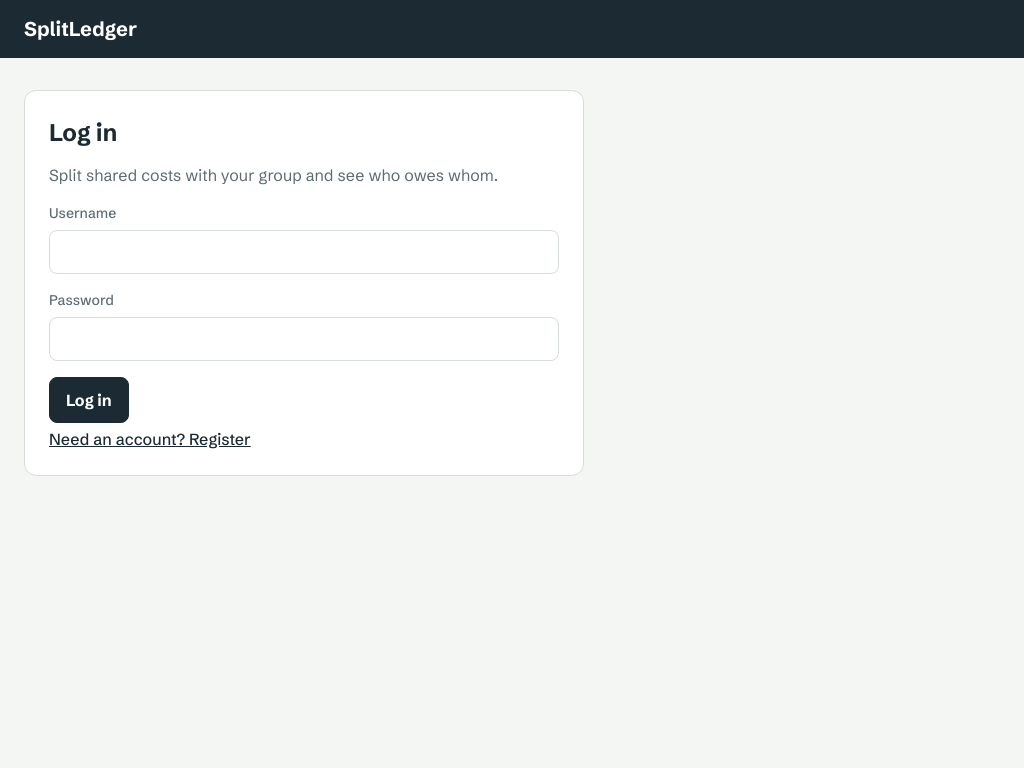
Test: LoginPage › registers then logs in
Click the button "Need an account? Register". click: [150, 439]
box: [49,427,251,451]
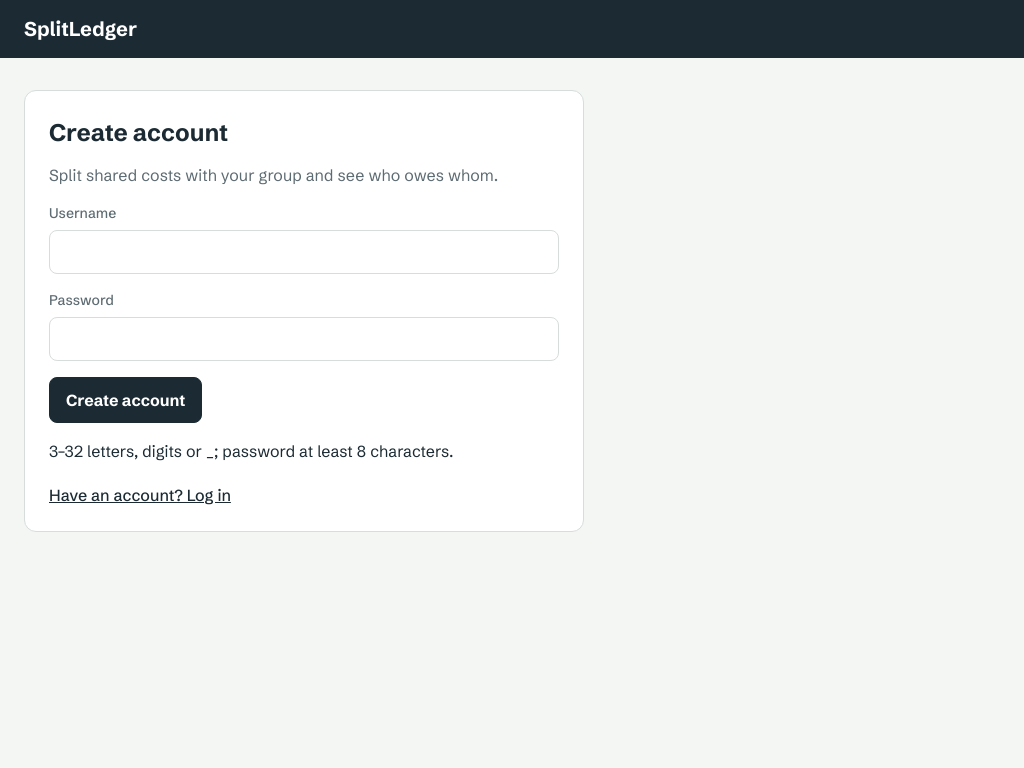
Check: the heading "Create account" is shown, box [49,118,228,147]
Type "alice" into the field labelled "Username". click: [304, 252]
box: [49,230,559,274]
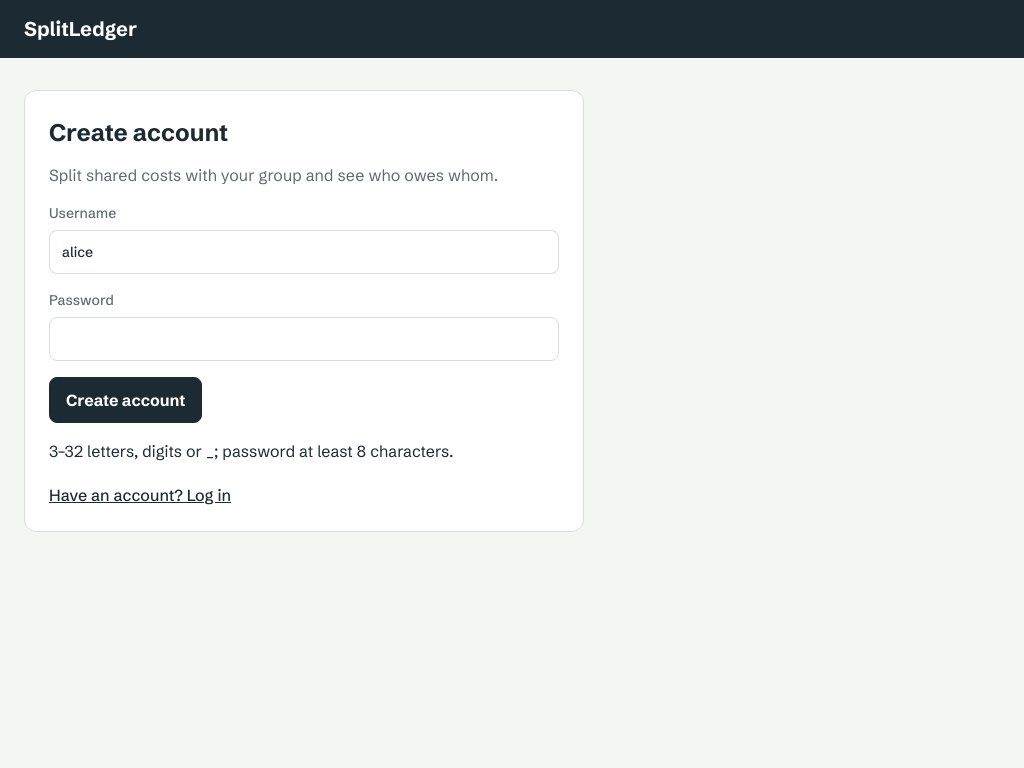
Type "pw123456" into the password field labelled "Password". click: [304, 339]
box: [49,317,559,361]
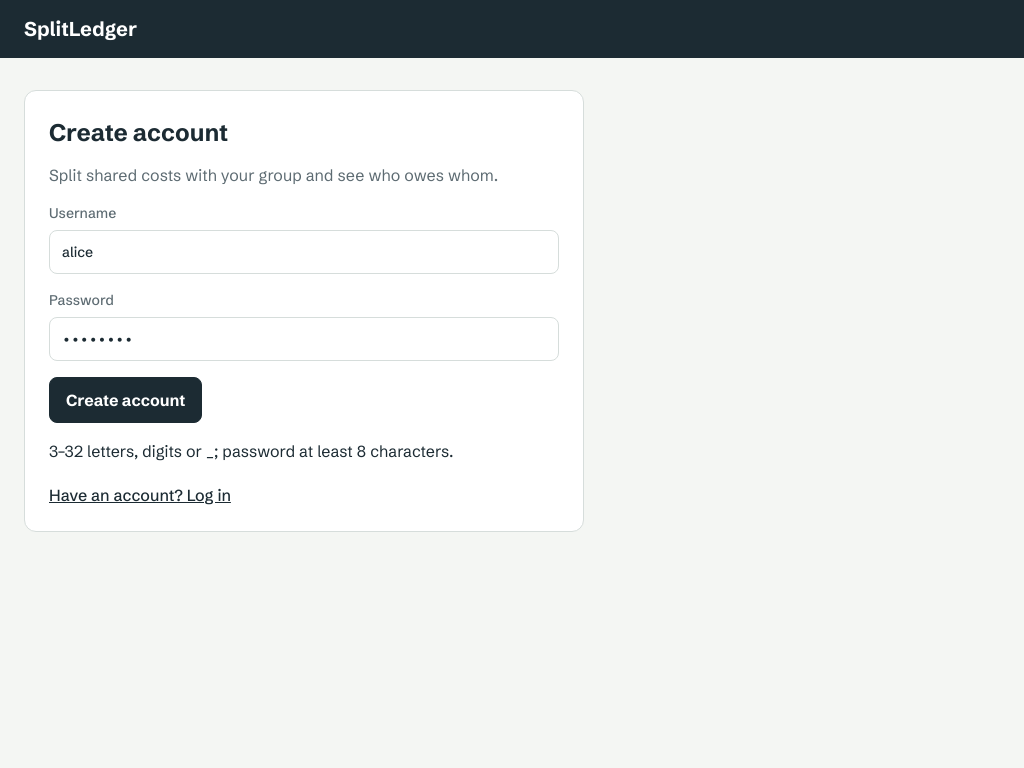
Click the button "Create account". click: [126, 400]
box: [49,377,202,423]
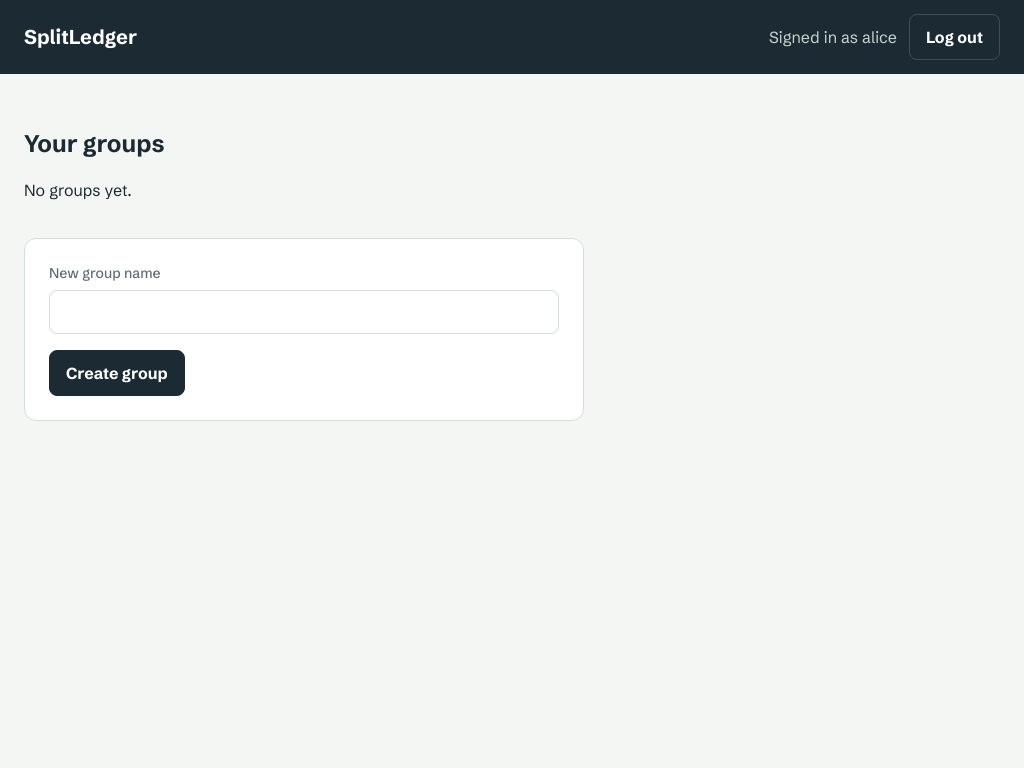
Check: the text "Signed in as alice" is shown, box [769,25,897,49]
